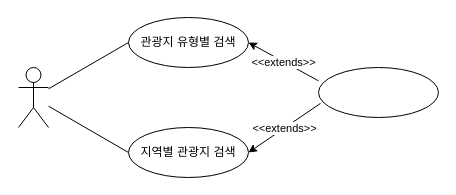
Image size: 456x195. Some labels were removed from this diagram. Each missing label, with the box of its shape:
사용자: (18, 66, 48, 128)
상세보기: (318, 66, 438, 118)
